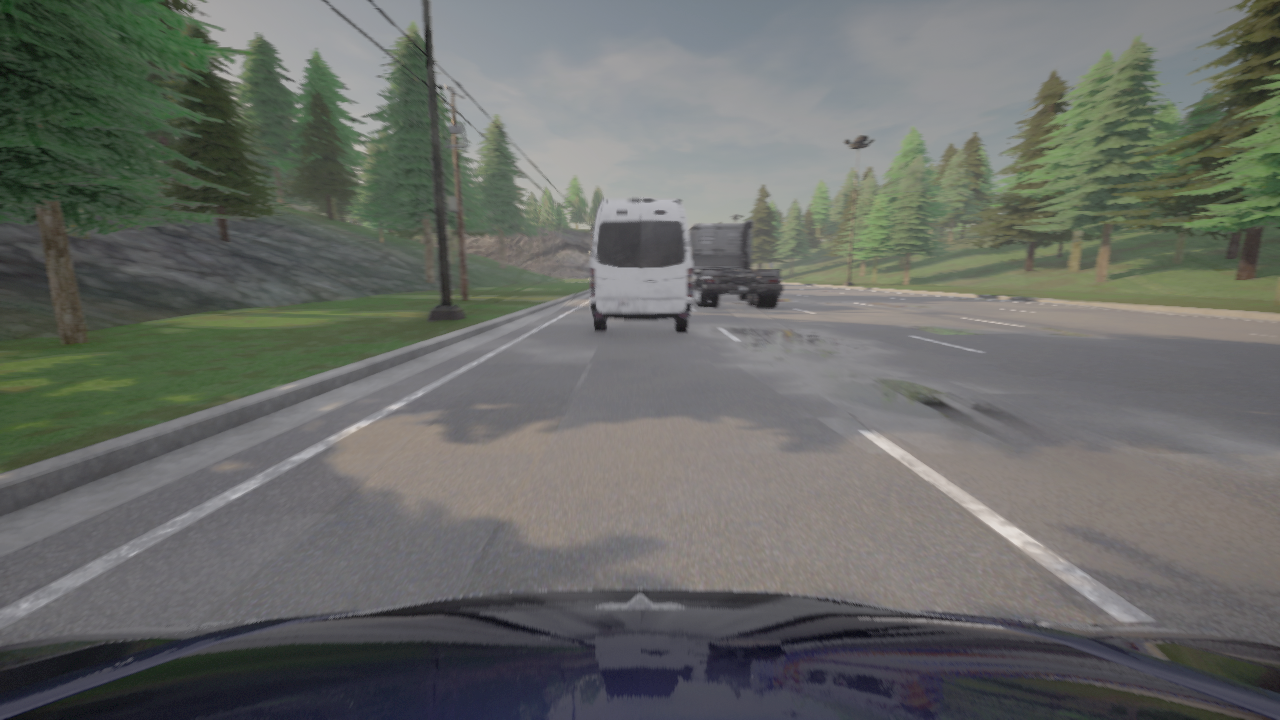cyclist: (0, 588, 1279, 719), (589, 198, 692, 331), (689, 220, 782, 306)
